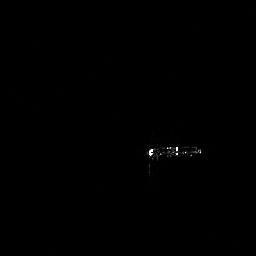ship: (143, 142, 205, 162)
